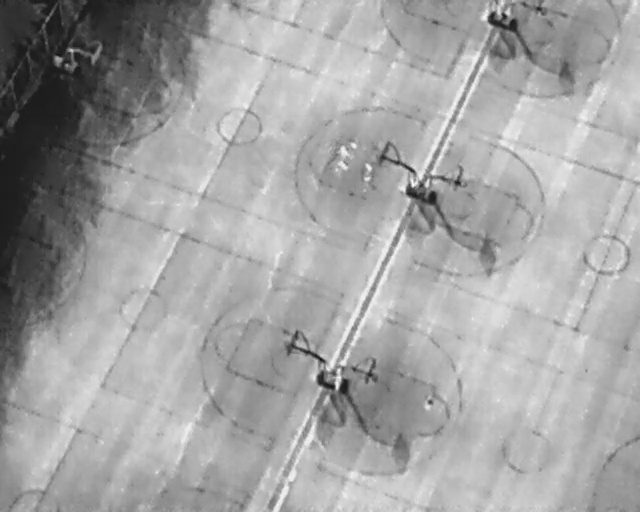Person: (335, 157, 350, 177), (363, 160, 374, 179), (425, 394, 435, 412), (337, 141, 347, 157), (362, 170, 371, 186), (348, 137, 357, 152)
